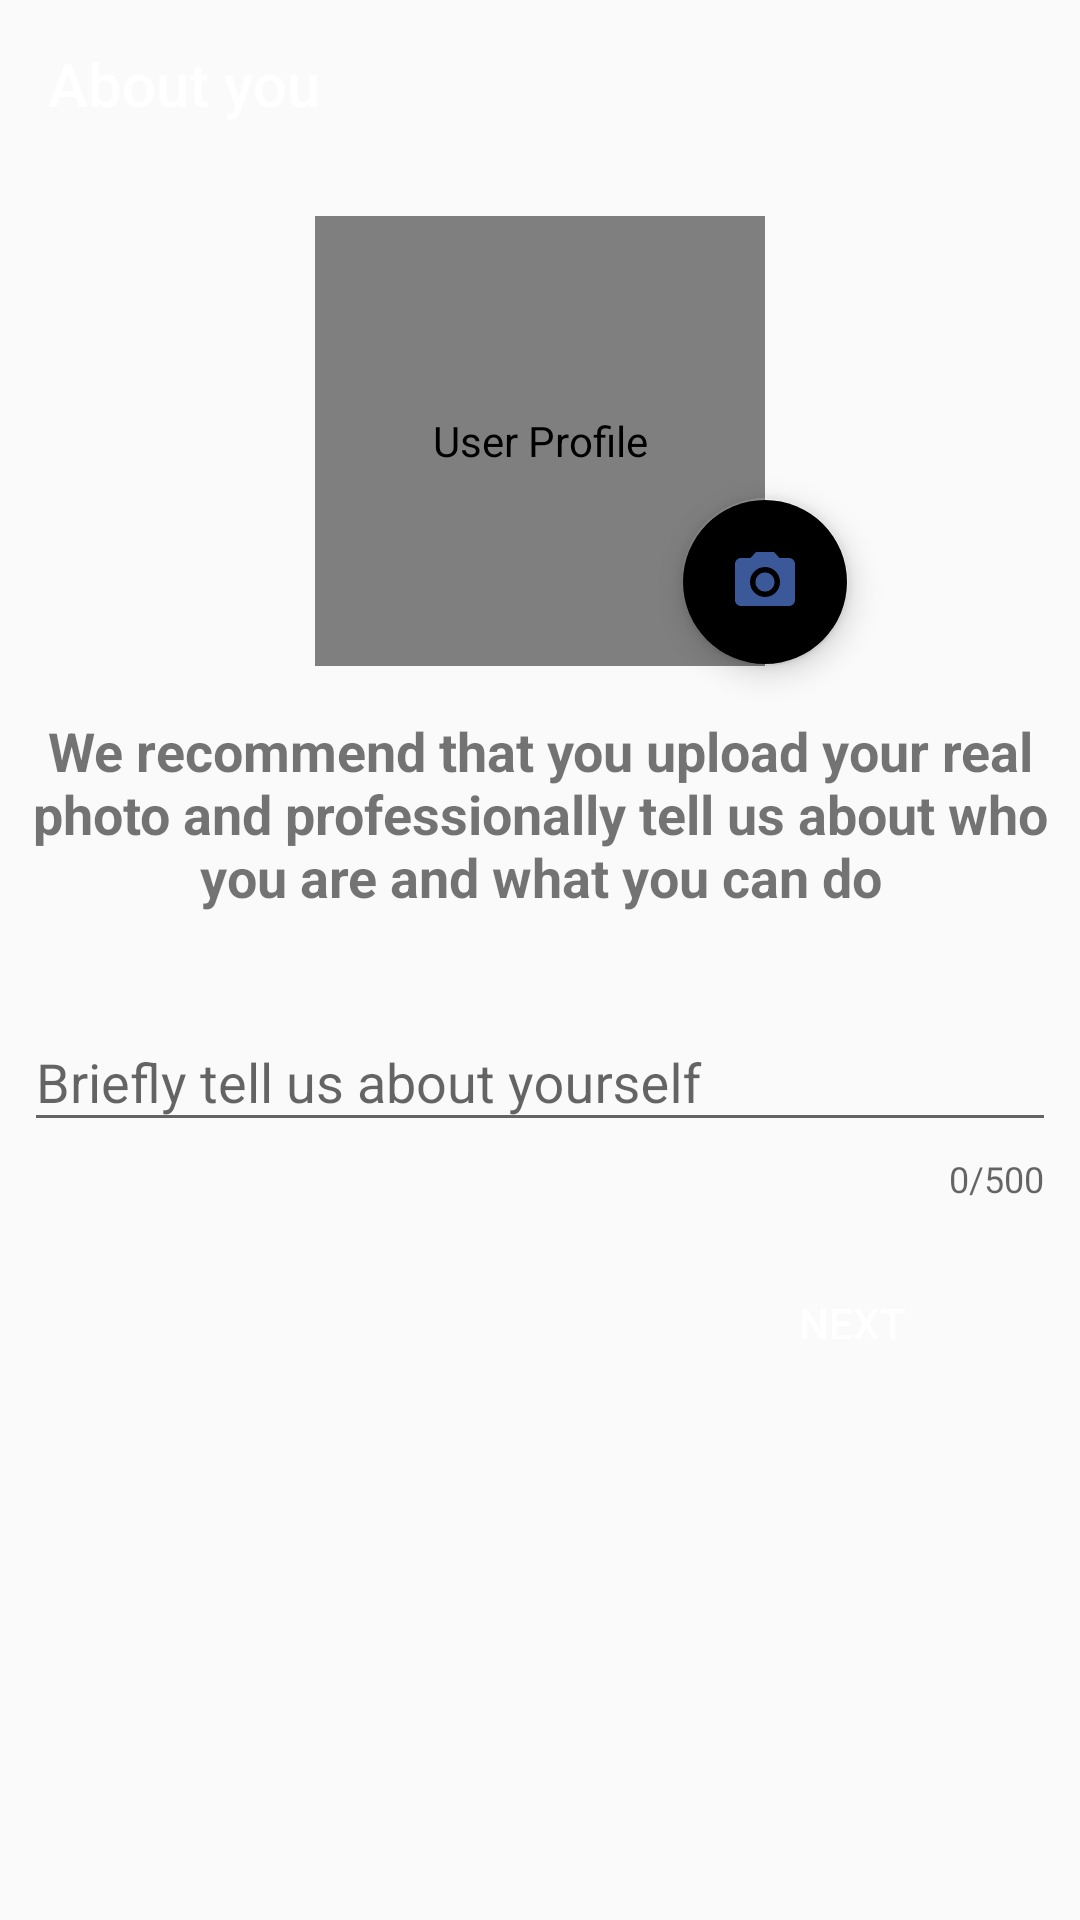

Screen size 1080 x 1920. Icon name, then its center in pixels as [x,y]:
camera: [765,582]
